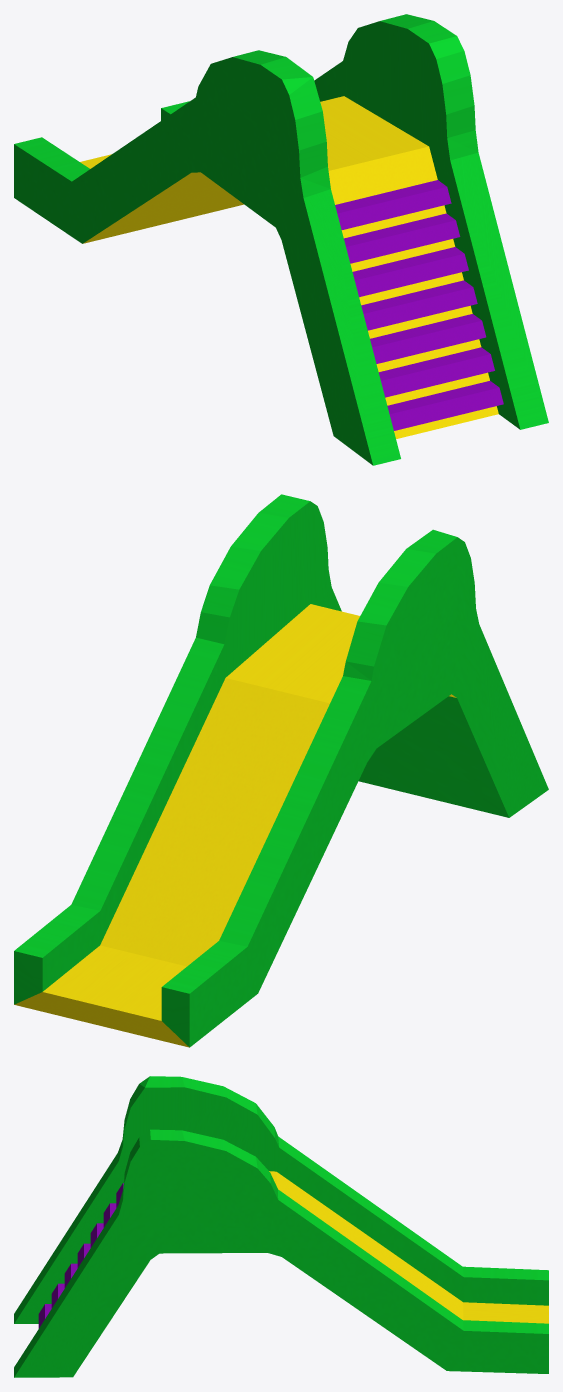
The model's file is Tobogan.fbx.
3 views of the same model, one above another, from view 1: azimuth 30°, elevation 25°; view 2: azimuth 150°, elevation 25°; view 3: azimuth 270°, elevation 25° (orthographic). The views are drawn at different scales.
Visible parts, largest first — view 1: Tobogan; view 2: Tobogan; view 3: Tobogan.
Boxes of the visible parts, box(x1,y1,x2,y2) form: Tobogan: box(14, 14, 548, 465); Tobogan: box(14, 494, 548, 1047); Tobogan: box(14, 1076, 548, 1377).
Size of the model in its own units: 174 by 303 by 618.
1 material, 1 textured.
